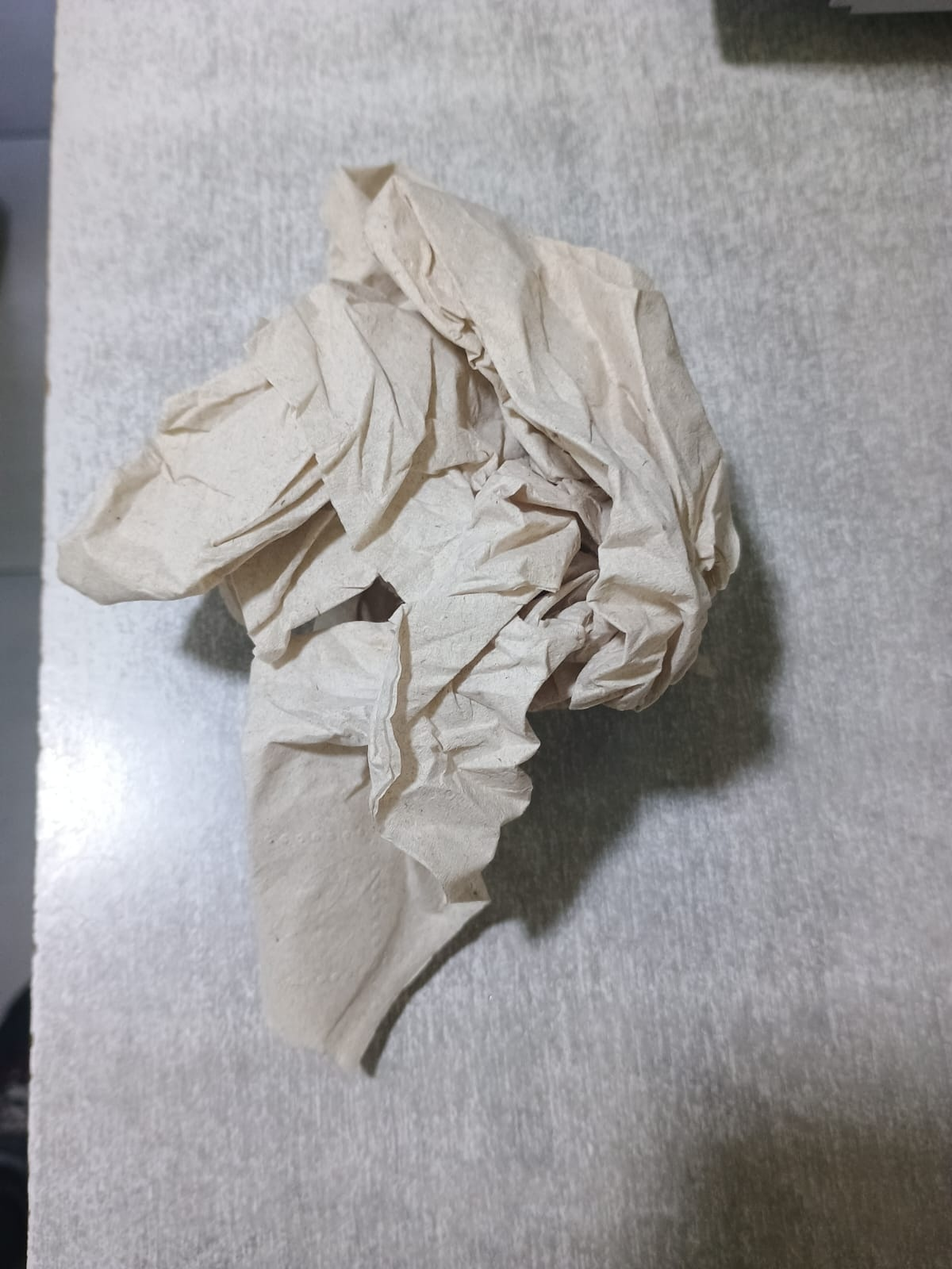Ordinario: (58, 166, 744, 1073)
